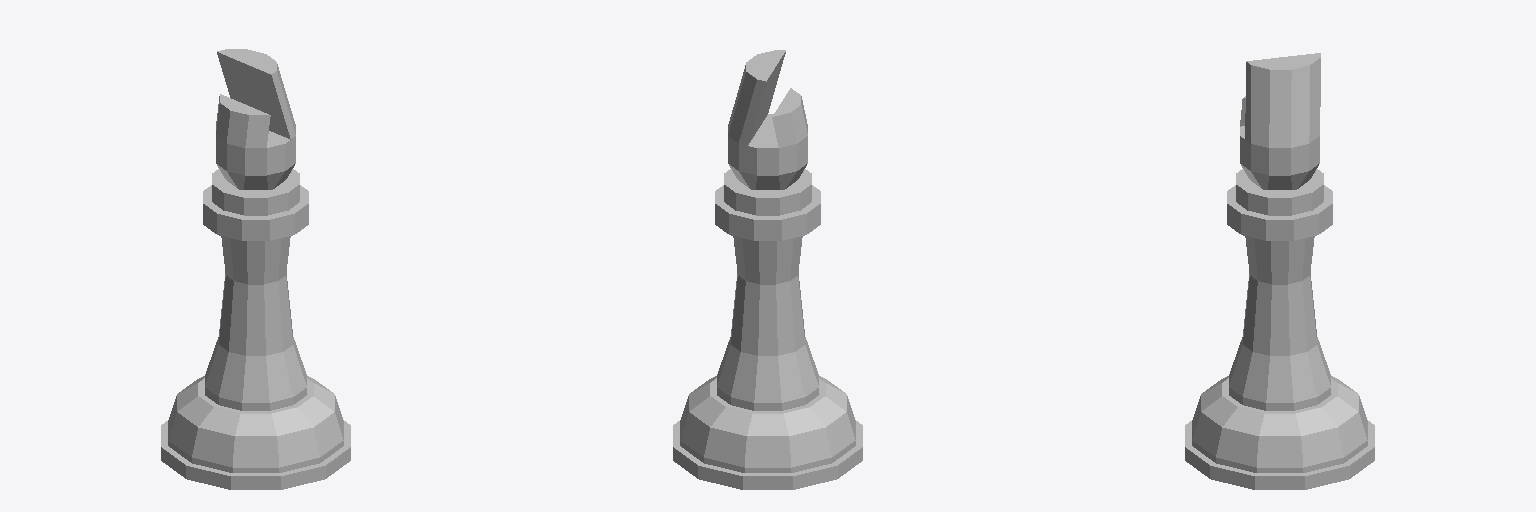
The model's file is black.obj.
3 renders of one model, left to right at view 1: azimuth 30°, elevation 25°; view 2: azimuth 150°, elevation 25°; view 3: azimuth 270°, elevation 25°, orthographic.
Bounding box in the file's own units: 0.1256 × 0.283 × 0.1256.